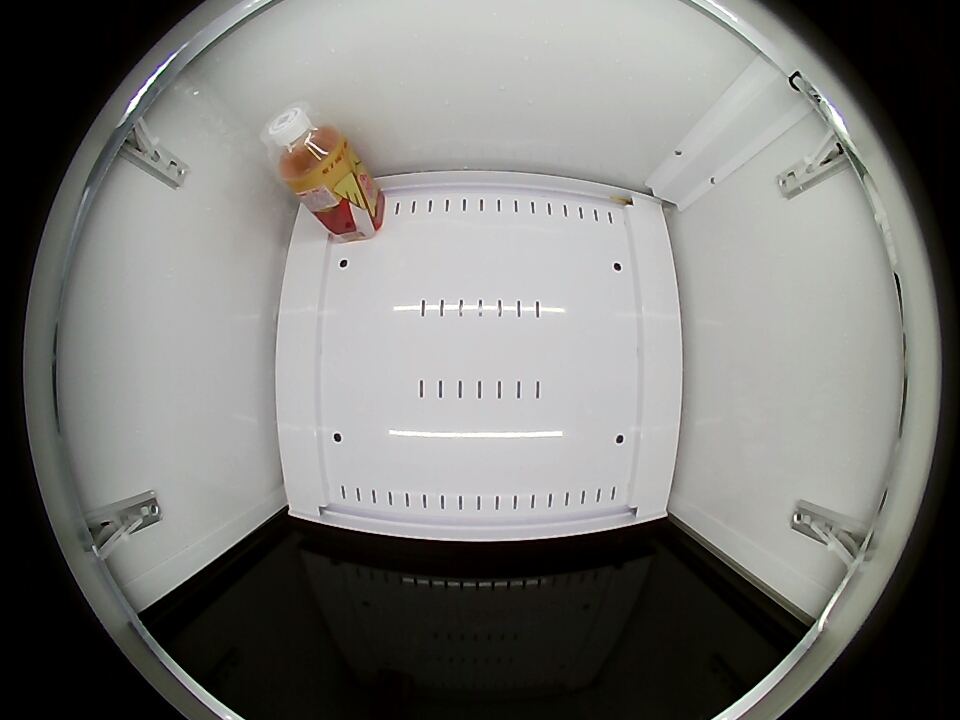dongpeng-b: (262, 104, 347, 188)
